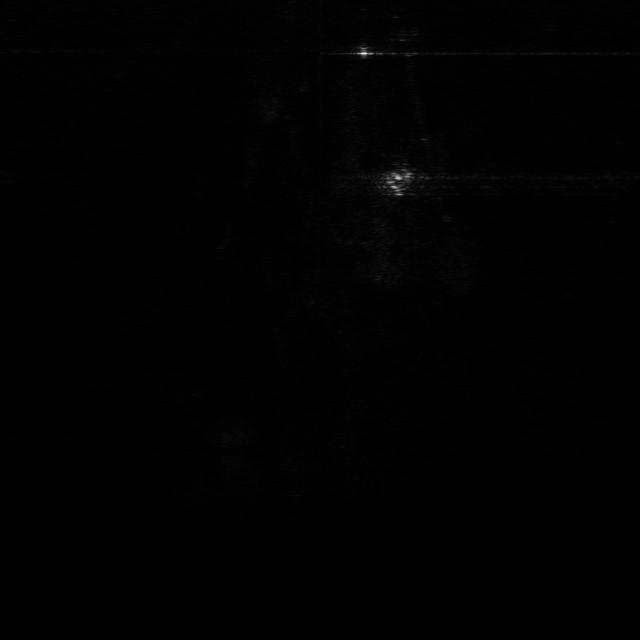rov: (379, 167, 417, 197)
